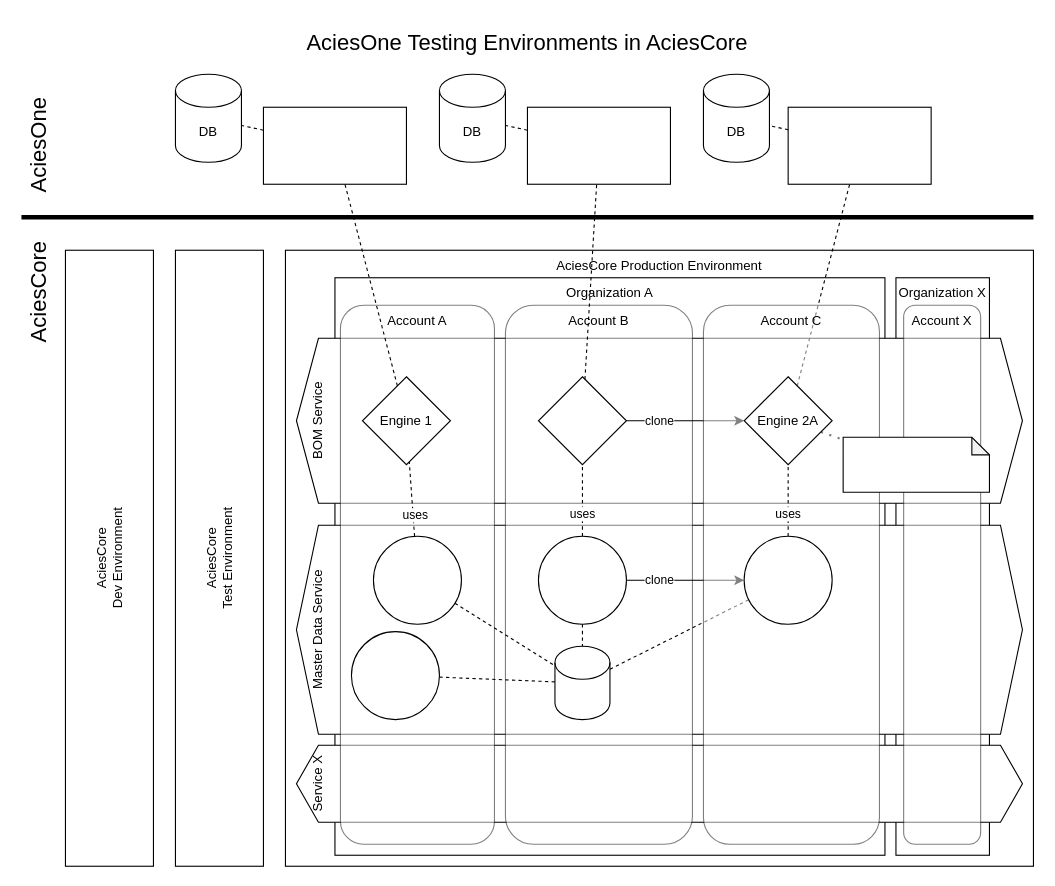
The diagram is 1055 pixels wide and 886 high, and some of its shapes have lost their labels. The shapes that lost their labels are listed below. From the top down, each one's centre as x and y in pixels, then its label:
At [334,145]: "AciesOne Production 18.4".
At [598,145]: "AciesOne Pre-prod 18.4".
At [859,145]: "AciesOne Test 18.5".
At [581,420]: "Engine 2".
At [915,464]: "Cloned via /bom/engines/{id}/clone".
At [416,579]: "Store 2".
At [581,579]: "Store 3".
At [787,579]: "Store 3A".
At [394,675]: "Store 1".
